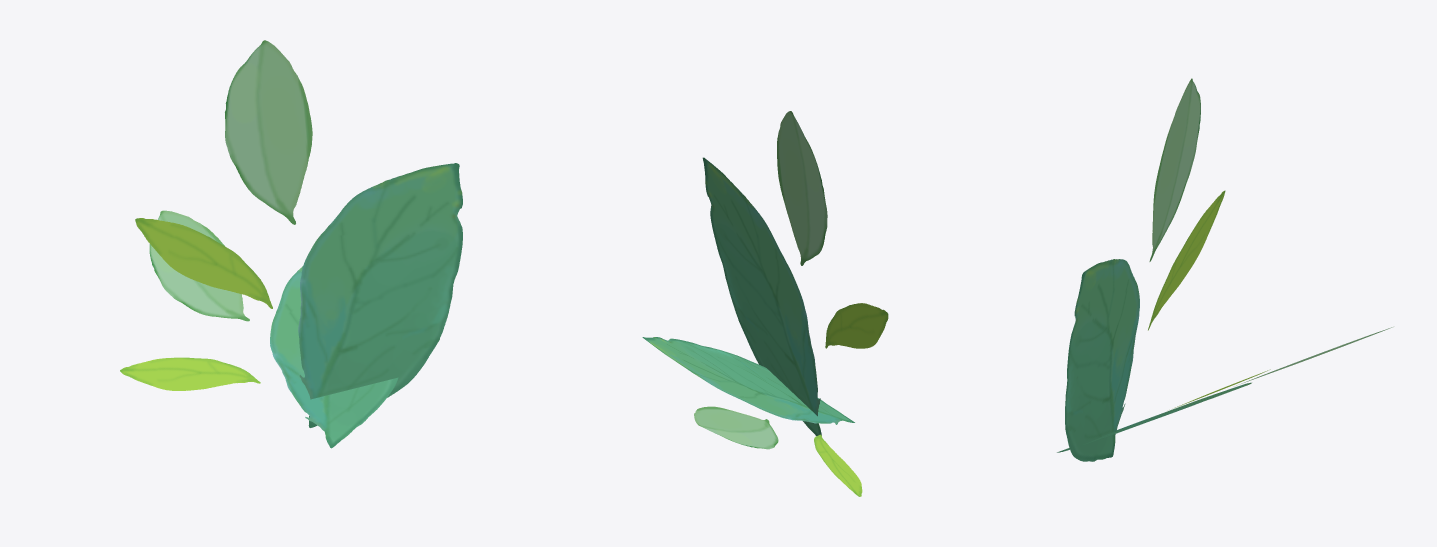
File: leaves_test_textured.fbx
The picture shows the model from 3 angles, left to right: view 1: azimuth 30°, elevation 25°; view 2: azimuth 150°, elevation 25°; view 3: azimuth 270°, elevation 25°; orthographic projection. The views are drawn at different scales.
Visible parts, largest first — view 1: pPlane2, pPlane1; view 2: pPlane2, pPlane1; view 3: pPlane2, pPlane1.
Boxes of the visible parts, box(x1,y1,x2,y2) form: pPlane2: box(135, 40, 462, 427); pPlane1: box(120, 210, 398, 448); pPlane2: box(702, 111, 888, 435); pPlane1: box(642, 337, 862, 496); pPlane2: box(1065, 78, 1225, 461); pPlane1: box(1057, 327, 1392, 452).
Bounding box in the file's own units: 1.03 × 1.33 × 1.09.
1 material, 1 textured.
